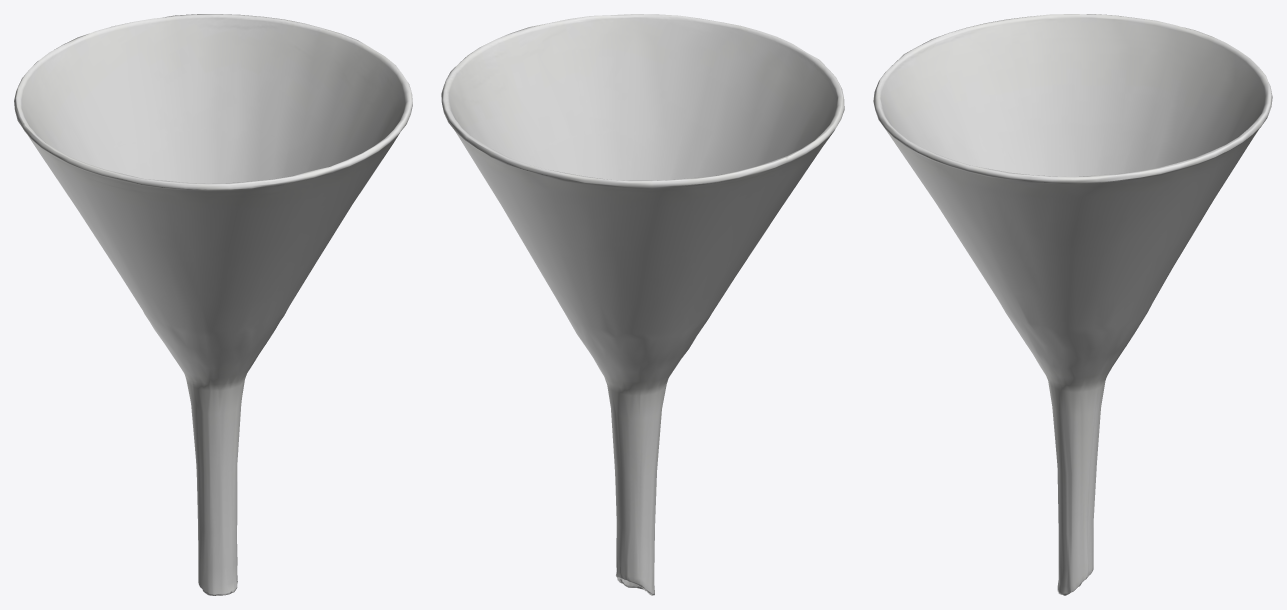
Rendered from glass_funnel_1778157377.glb.
3 views of the same model, side by side, from view 1: azimuth 30°, elevation 25°; view 2: azimuth 150°, elevation 25°; view 3: azimuth 270°, elevation 25° (orthographic).
Visible parts, largest first — view 1: tripo_node_f7e6dcc2-bcf0-4840-aa91-d5906d2ed2a1; view 2: tripo_node_f7e6dcc2-bcf0-4840-aa91-d5906d2ed2a1; view 3: tripo_node_f7e6dcc2-bcf0-4840-aa91-d5906d2ed2a1.
Part boxes in pixels (x1,y1,x2,y2): tripo_node_f7e6dcc2-bcf0-4840-aa91-d5906d2ed2a1: [14, 14, 412, 595]; tripo_node_f7e6dcc2-bcf0-4840-aa91-d5906d2ed2a1: [441, 14, 844, 595]; tripo_node_f7e6dcc2-bcf0-4840-aa91-d5906d2ed2a1: [873, 14, 1272, 595].
Bounding box in the file's own units: 0.7324 × 0.998 × 0.7324.
Materials: 1 (1 with a texture image).
